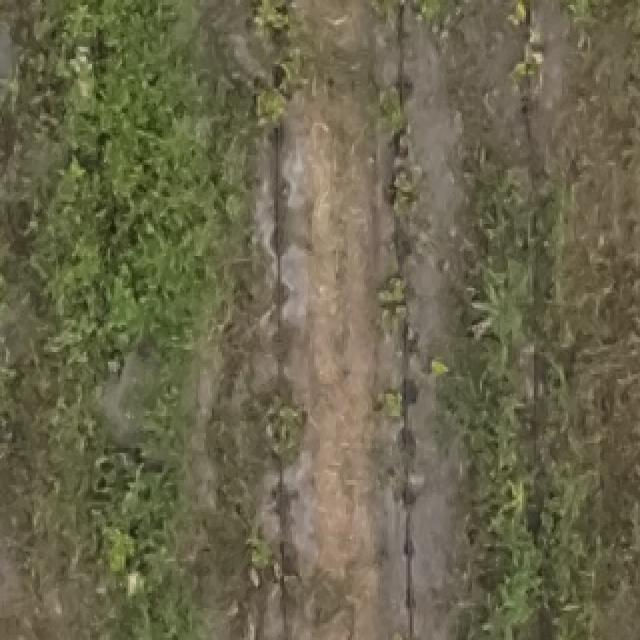strawberry-plant: (379, 150, 441, 232), (258, 391, 312, 463), (247, 528, 304, 590), (366, 0, 450, 34), (374, 274, 416, 335), (378, 77, 422, 130), (253, 66, 290, 127), (506, 49, 547, 101), (242, 0, 292, 32), (502, 0, 544, 30), (380, 384, 409, 427), (421, 354, 454, 391), (384, 623, 428, 640)
